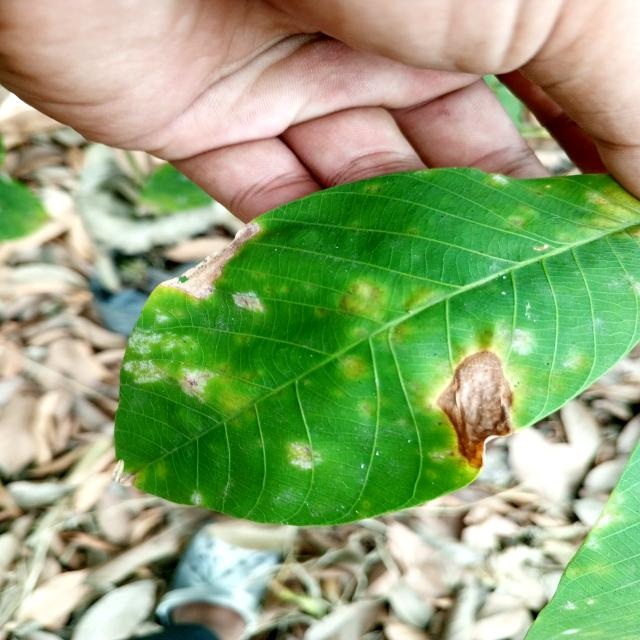Leaf-Blight: (435, 351, 514, 468), (158, 219, 260, 300)
